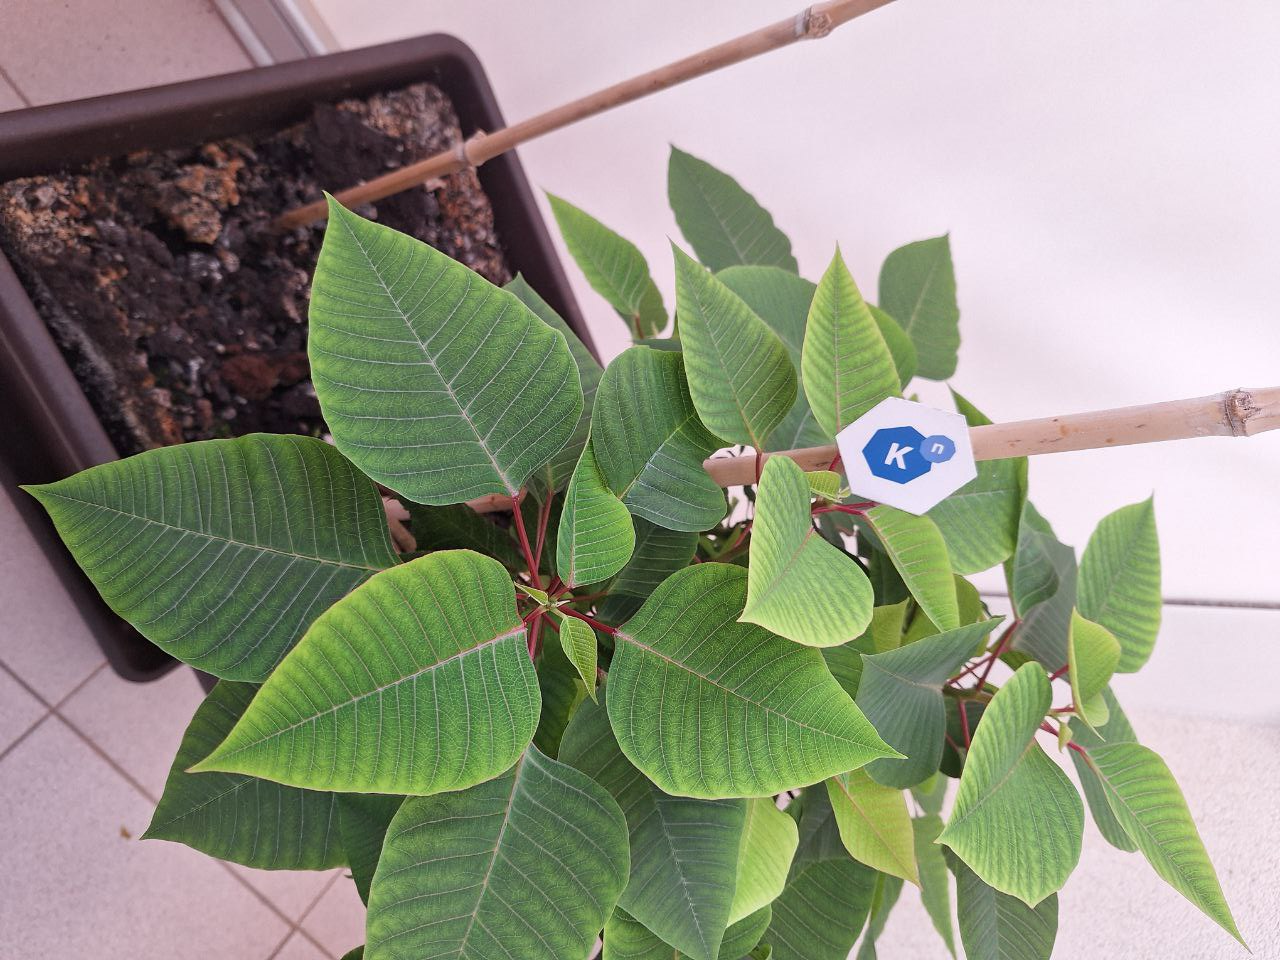knative: (857, 426, 962, 488)
